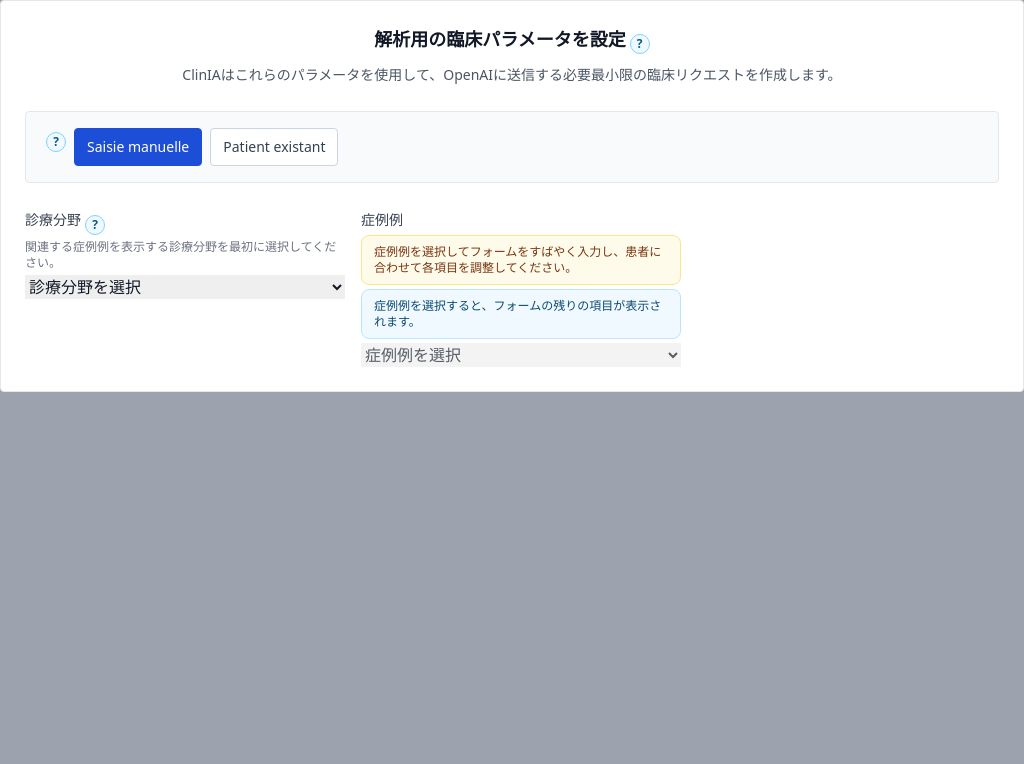
Test: ClinicalForm › keeps the hypertension example medical terms in English for ja
Step 1. Select "総合診療" in the dropdown with id "clinical-field" → (185, 287), box [25,275,345,299]
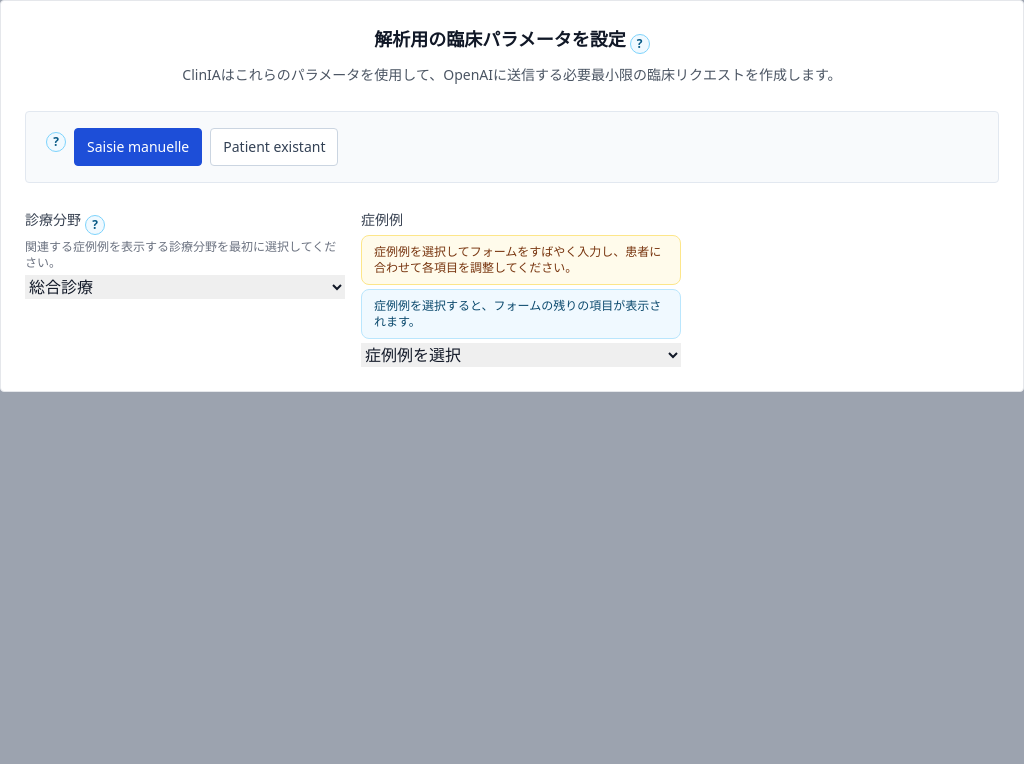
Step 2. Select "Hypertension" in the dropdown with id "clinical-example-case" → (521, 355), box [361,343,681,367]
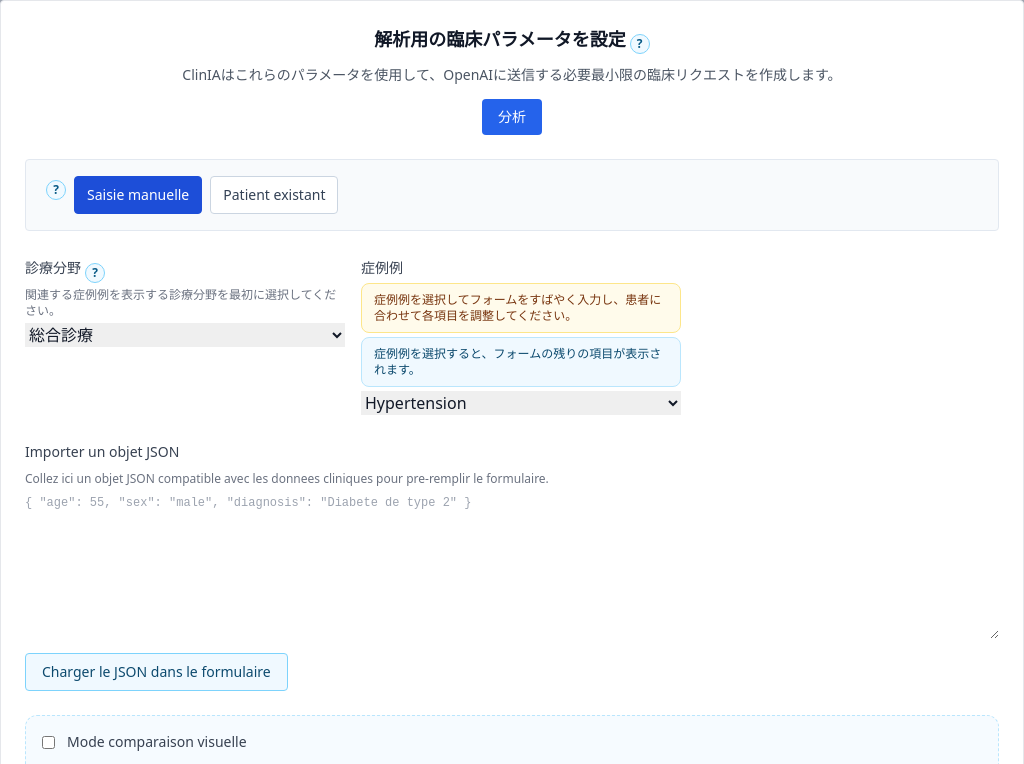
Expected: the button "分析" is shown, [482,99,542,135]
